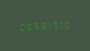eight: (38, 20, 44, 31)
nine: (52, 19, 58, 30)
one: (45, 19, 51, 30), (59, 19, 65, 29)
six: (31, 20, 37, 31)
zero: (17, 21, 23, 32), (66, 18, 72, 29), (24, 21, 30, 31)
